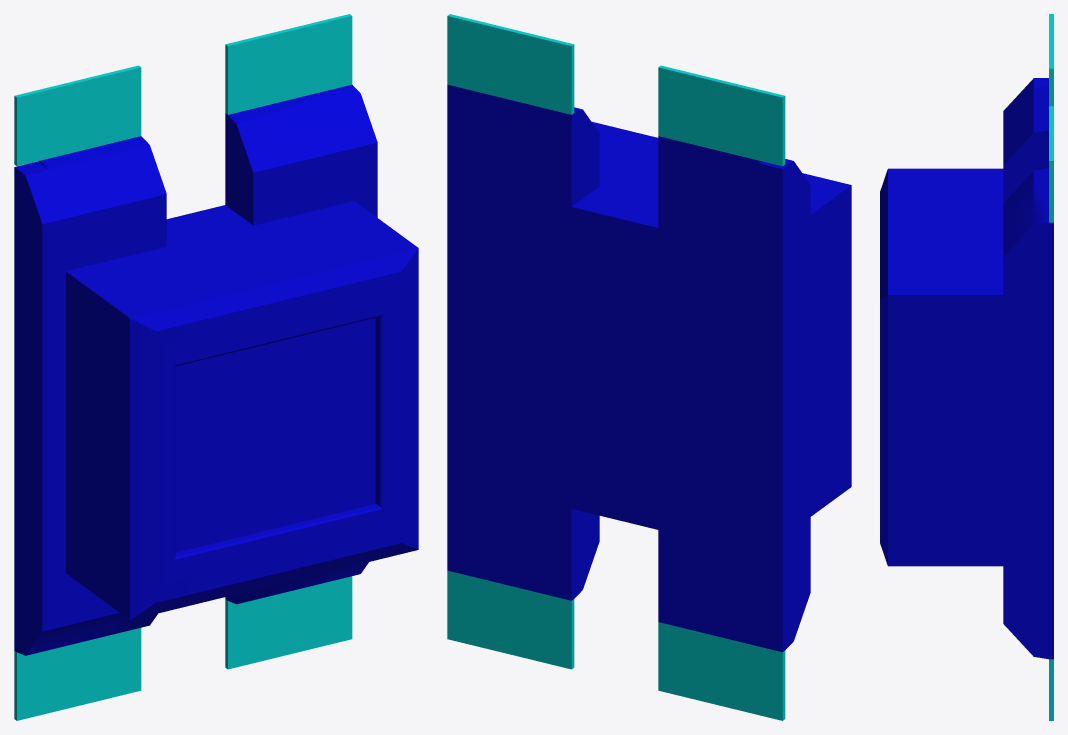
The model's file is puzzle_4buttonbase.fbx.
3 renders of one model, left to right at view 1: azimuth 30°, elevation 25°; view 2: azimuth 150°, elevation 25°; view 3: azimuth 270°, elevation 25°, orthographic. The views are drawn at different scales.
Parts seen in each view (by area): view 1: pCube2; view 2: pCube2; view 3: pCube2.
Boxes of the visible parts, <box> form: pCube2: <box>14,14,418,720</box>; pCube2: <box>447,14,851,720</box>; pCube2: <box>880,14,1053,720</box>.
Size of the model in its own units: 0.2263 by 0.402 by 0.1131.
